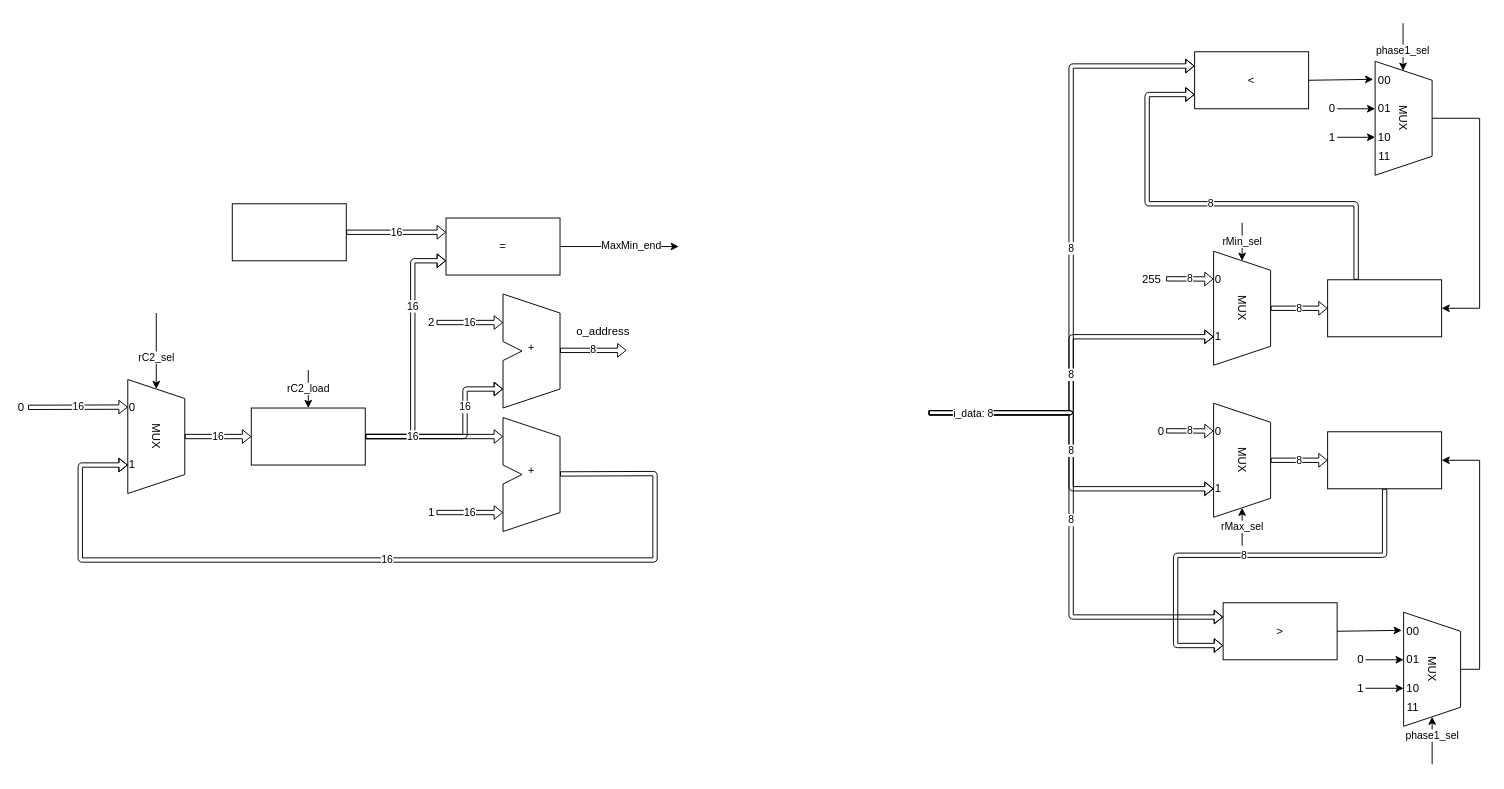
This 1504x789 diagram has some shape labels left out. Each missing label, with the box of its shape:
rC2: (250, 407, 365, 465)
rMax: (1327, 431, 1442, 489)
rMin: (1327, 279, 1442, 337)
rN: (231, 203, 346, 261)
